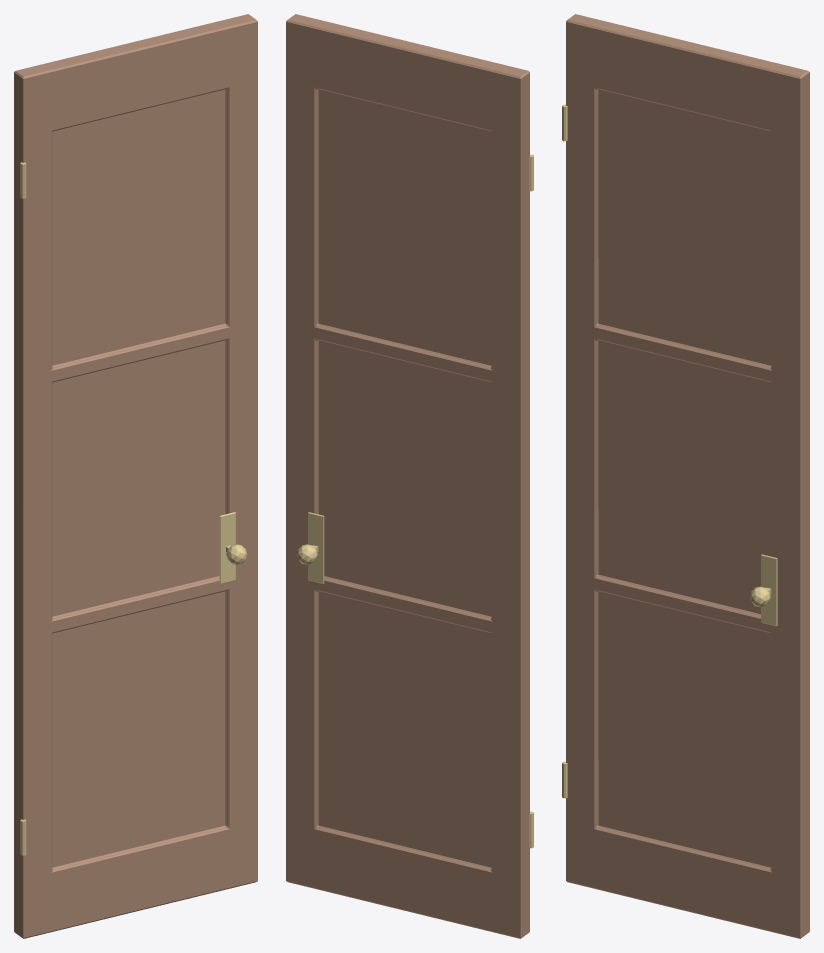
The model's file is door_leaf_freight.glb.
3 views of the same model, side by side, from view 1: azimuth 30°, elevation 25°; view 2: azimuth 150°, elevation 25°; view 3: azimuth 330°, elevation 25° (orthographic).
Parts seen in each view (by area): view 1: door_leaf_freight_door_freight, door_leaf_freight_brass; view 2: door_leaf_freight_door_freight, door_leaf_freight_brass; view 3: door_leaf_freight_door_freight, door_leaf_freight_brass.
Part boxes in pixels (<box>): door_leaf_freight_door_freight: <box>14,14,257,938</box>; door_leaf_freight_brass: <box>20,162,247,855</box>; door_leaf_freight_door_freight: <box>286,14,529,938</box>; door_leaf_freight_brass: <box>297,154,533,848</box>; door_leaf_freight_door_freight: <box>566,14,809,938</box>; door_leaf_freight_brass: <box>562,104,777,798</box>.
Bounding box in the file's own units: 0.728 × 2.52 × 0.206.
